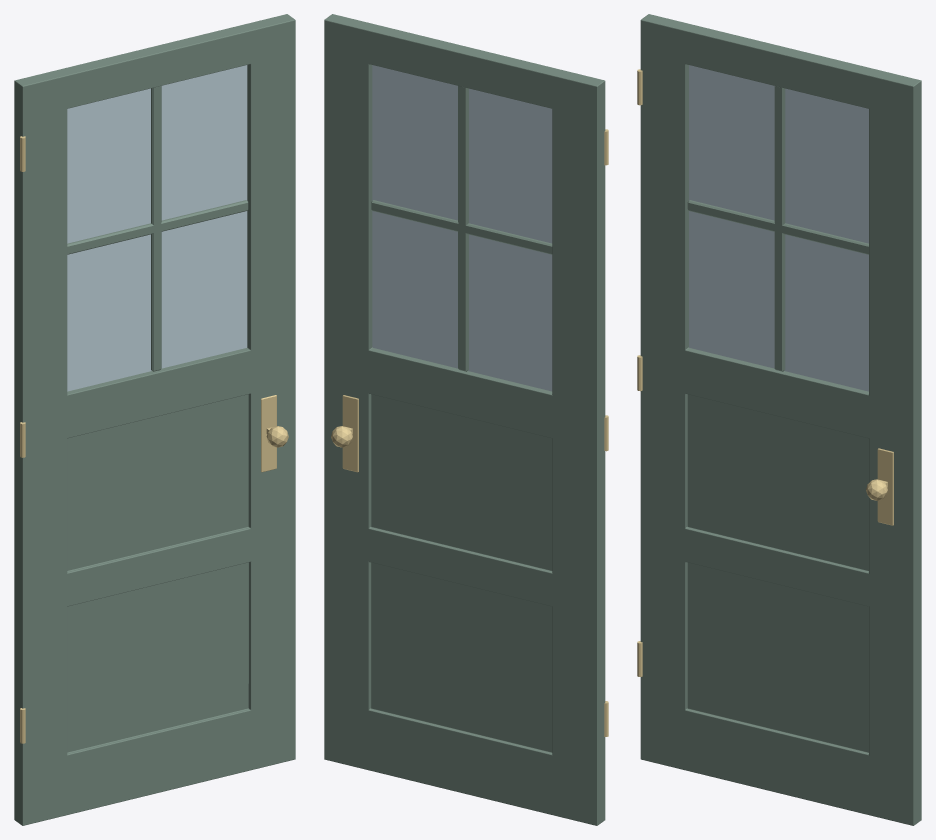
File: door_leaf_back.glb
3 views of the same model, side by side, from view 1: azimuth 30°, elevation 25°; view 2: azimuth 150°, elevation 25°; view 3: azimuth 330°, elevation 25° (orthographic).
Parts seen in each view (by area): view 1: door_leaf_back_door, door_leaf_back_glass, door_leaf_back_brass; view 2: door_leaf_back_door, door_leaf_back_glass, door_leaf_back_brass; view 3: door_leaf_back_door, door_leaf_back_glass, door_leaf_back_brass.
Boxes of the visible parts, <box> form: door_leaf_back_door: <box>14,14,295,825</box>; door_leaf_back_glass: <box>67,65,247,391</box>; door_leaf_back_brass: <box>20,136,288,743</box>; door_leaf_back_door: <box>324,14,605,825</box>; door_leaf_back_glass: <box>372,65,552,391</box>; door_leaf_back_brass: <box>331,129,608,736</box>; door_leaf_back_door: <box>640,14,921,825</box>; door_leaf_back_glass: <box>689,65,868,391</box>; door_leaf_back_brass: <box>637,69,893,676</box>.
Bounding box in the file's own units: 0.858 × 2.2 × 0.205.
